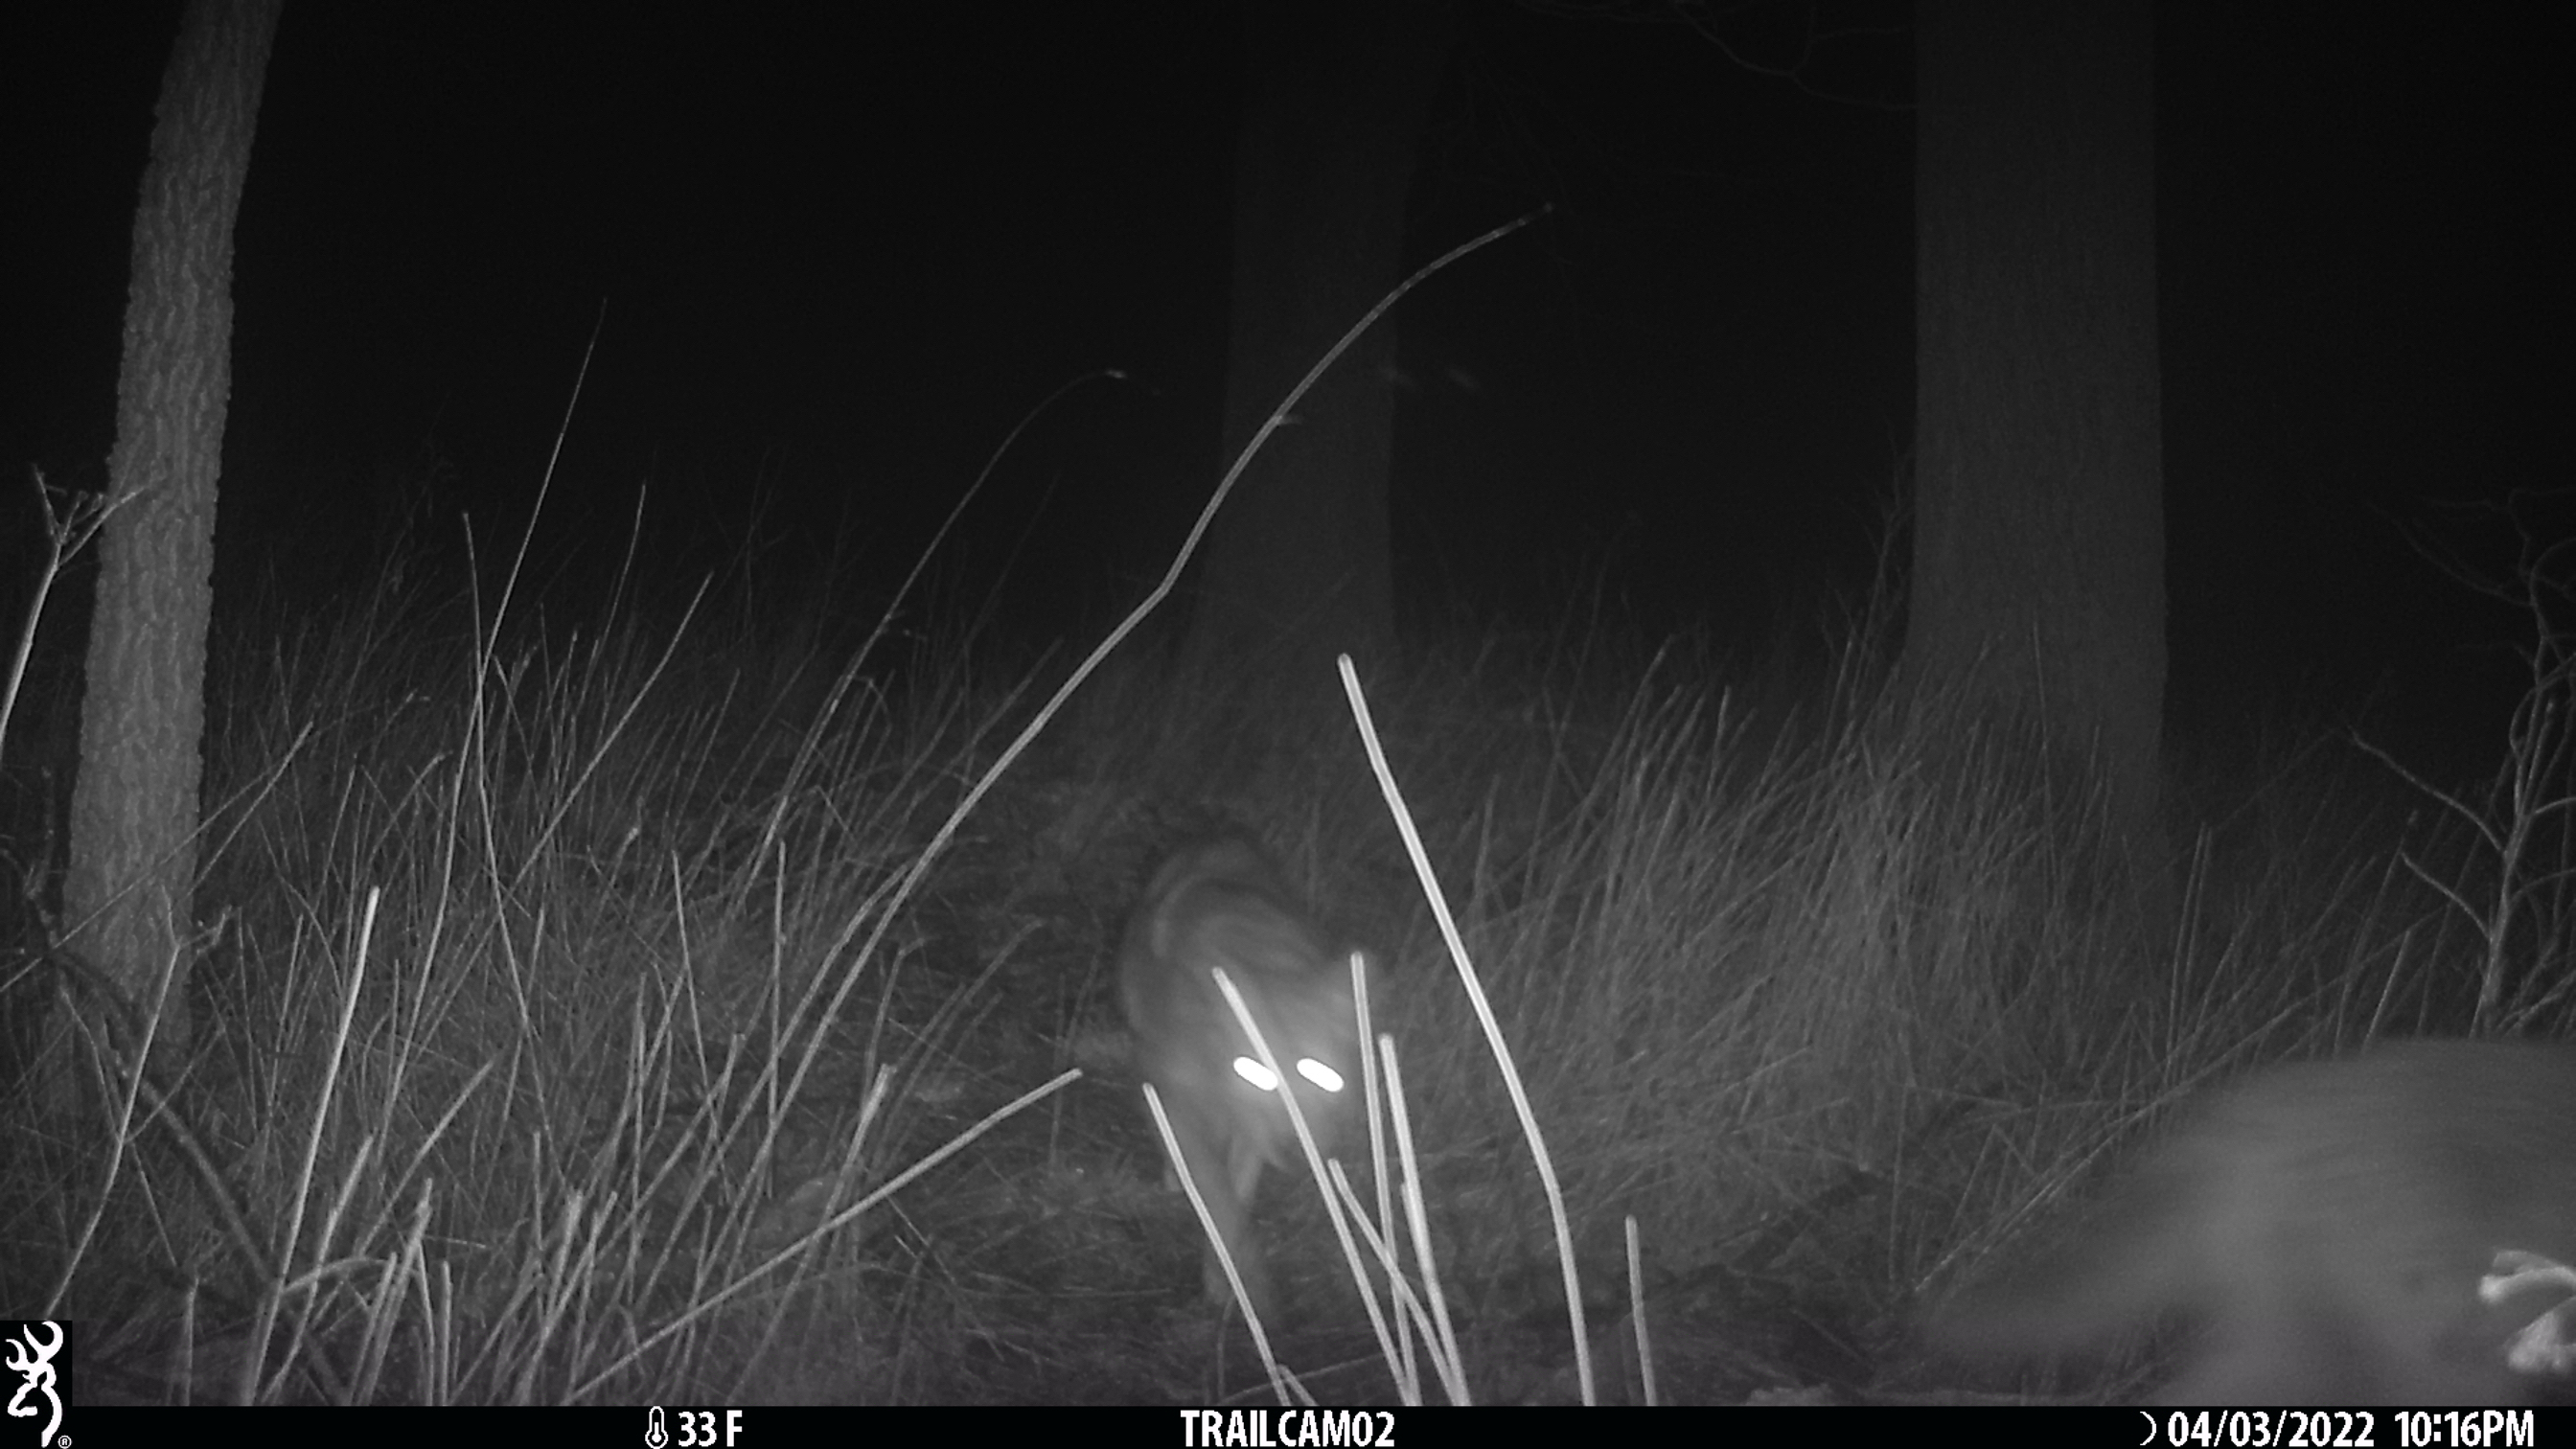Coyote: (1936, 1031, 2576, 1407), (1111, 823, 1376, 1293)
